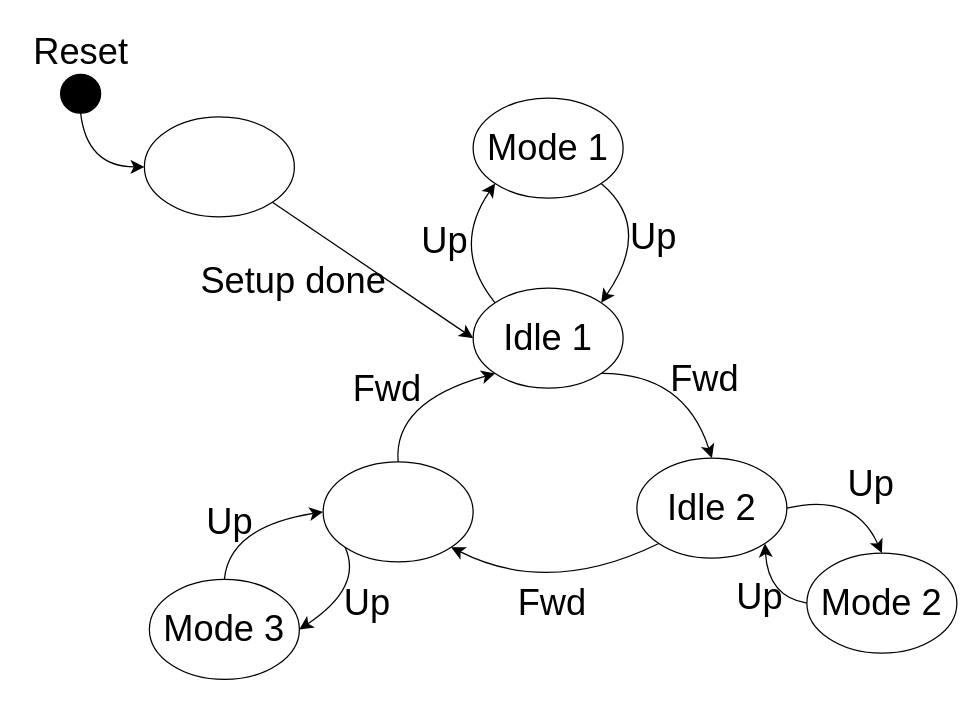
Image size: 979x701. Some labels were removed from this diagram. Each missing label, with the box of its shape:
Idle 3: (322, 461, 473, 562)
setup: (143, 116, 294, 217)
